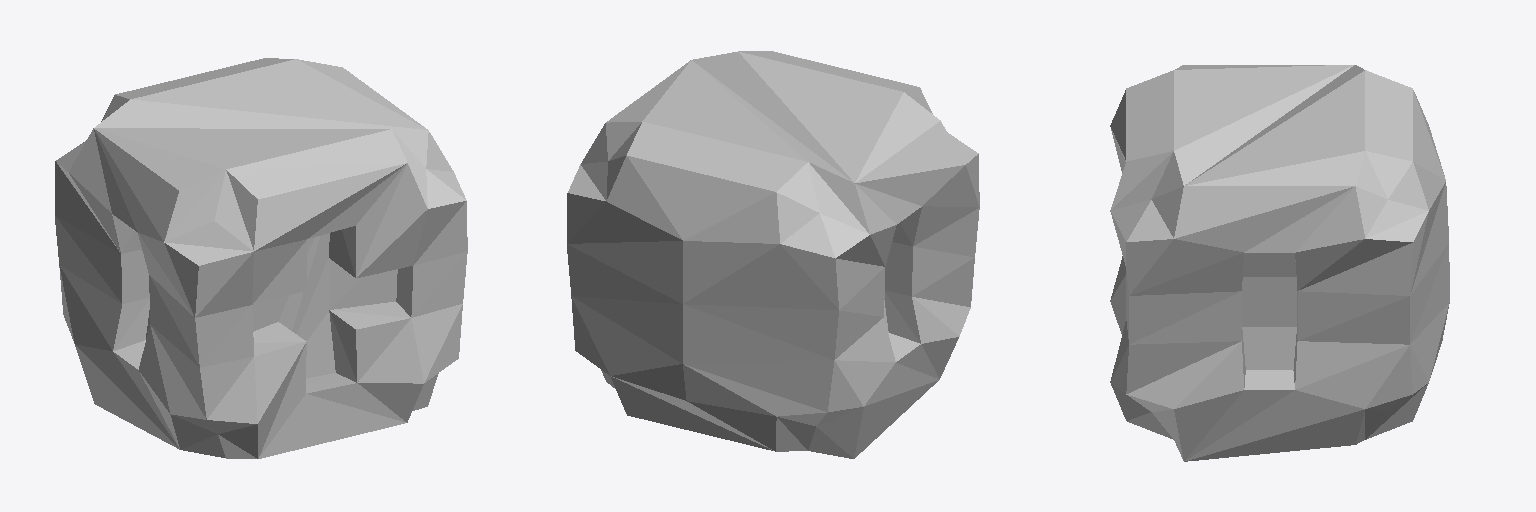
File: SmallMedicalKit_LOD0.obj
3 views of the same model, side by side, from view 1: azimuth 30°, elevation 25°; view 2: azimuth 150°, elevation 25°; view 3: azimuth 270°, elevation 25° (orthographic).
Visible parts, largest first — view 1: SmallMedicalKit_LOD0; view 2: SmallMedicalKit_LOD0; view 3: SmallMedicalKit_LOD0.
Part boxes in pixels (left/top/right/bottom): SmallMedicalKit_LOD0: left=55, top=58, right=467, bottom=458; SmallMedicalKit_LOD0: left=567, top=51, right=979, bottom=458; SmallMedicalKit_LOD0: left=1110, top=65, right=1449, bottom=461.
Size of the model in its own units: 0.5949 by 0.5712 by 0.6041.